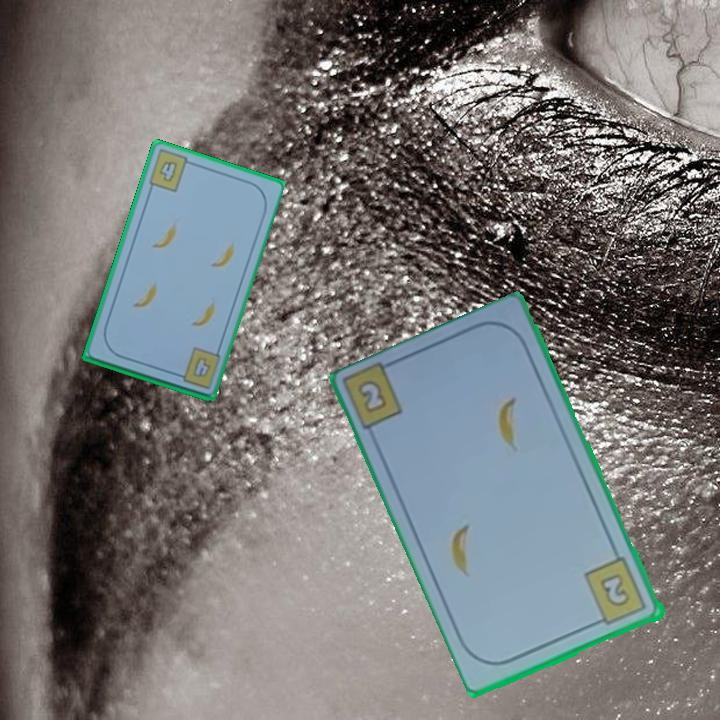2b: (581, 554, 651, 629), (353, 376, 391, 417)
4b: (145, 147, 197, 195), (189, 353, 213, 380)
